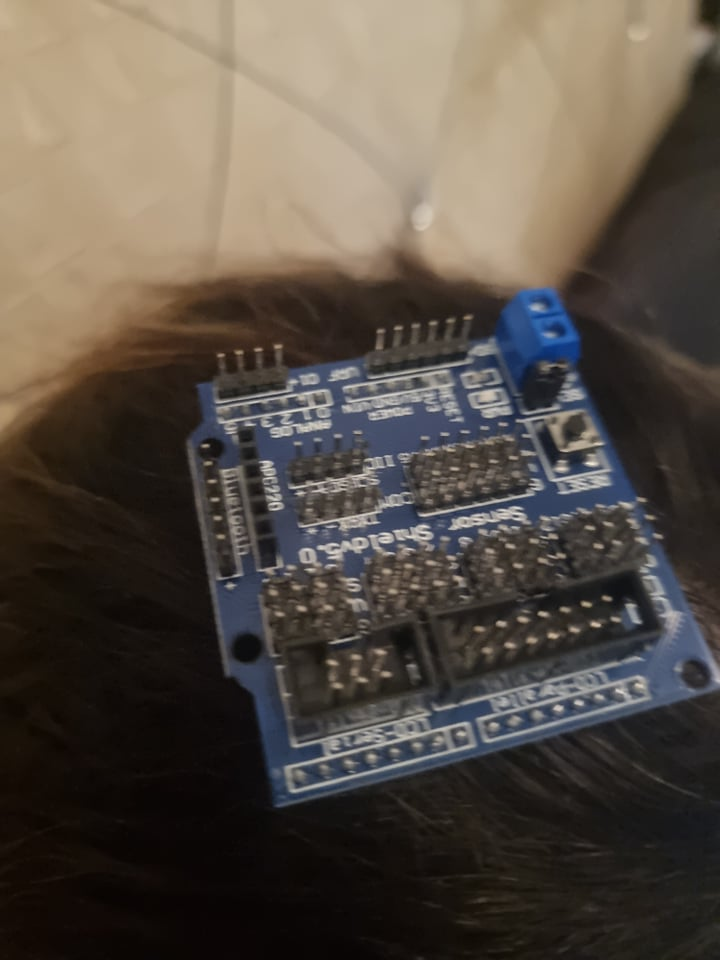5V EXPANSION: (188, 287, 720, 811)
